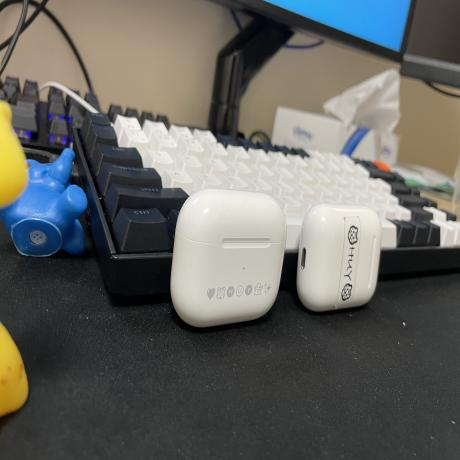airpod2: (297, 196, 384, 317)
airpod3: (163, 186, 287, 328)
